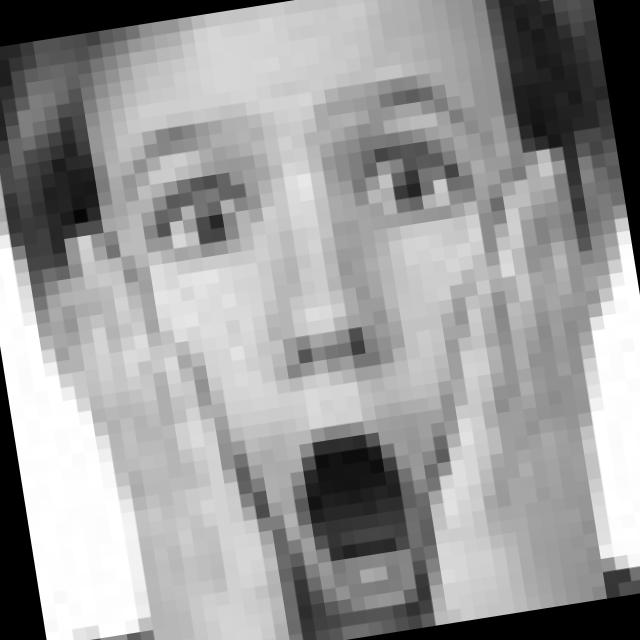surprise: (94, 61, 549, 640)
